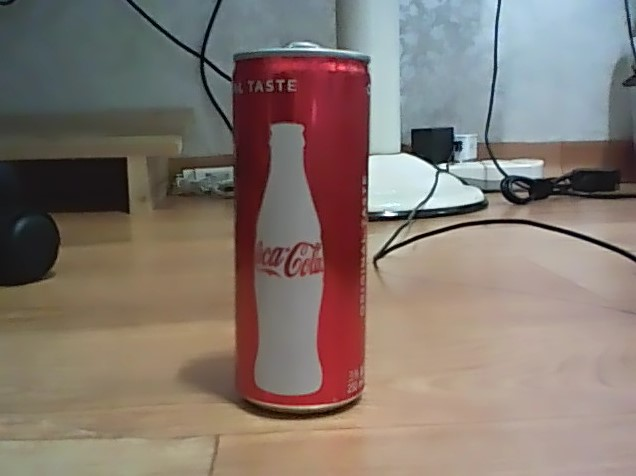Can: (226, 41, 373, 422)
